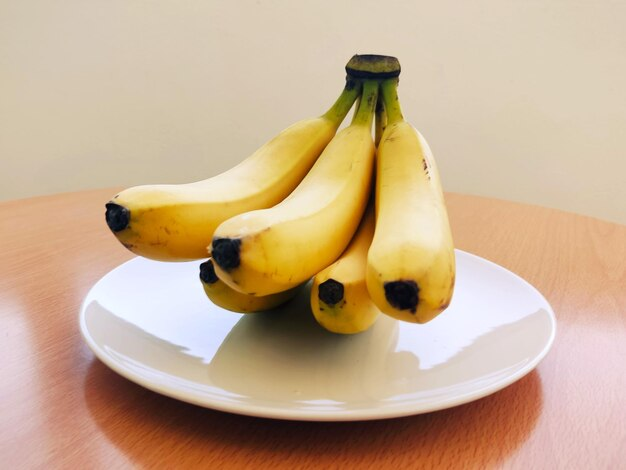banana: (101, 56, 459, 342)
